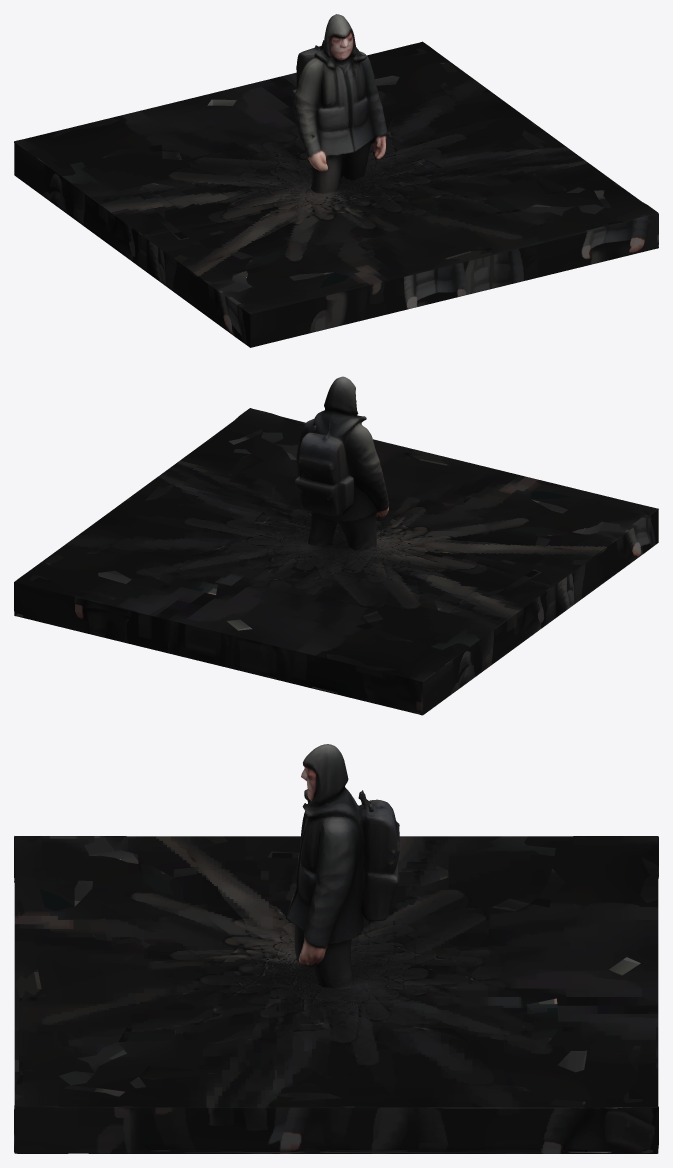
File: civilian.glb
3 views of the same model, one above another, from view 1: azimuth 30°, elevation 25°; view 2: azimuth 150°, elevation 25°; view 3: azimuth 270°, elevation 25° (orthographic). The views are drawn at different scales.
Parts seen in each view (by area): view 1: geometry_0; view 2: geometry_0; view 3: geometry_0.
Boxes of the visible parts, left/top/right/bottom form: geometry_0: left=14, top=14, right=658, bottom=347; geometry_0: left=14, top=376, right=658, bottom=715; geometry_0: left=14, top=744, right=658, bottom=1153.
Bounding box in the file's own units: 1 × 0.4824 × 1.
Materials: 1 (1 with a texture image).
